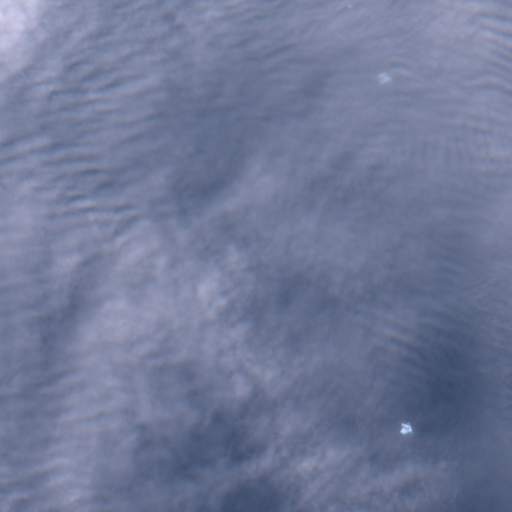Iceberg: (379, 72, 391, 84), (400, 423, 411, 434)
